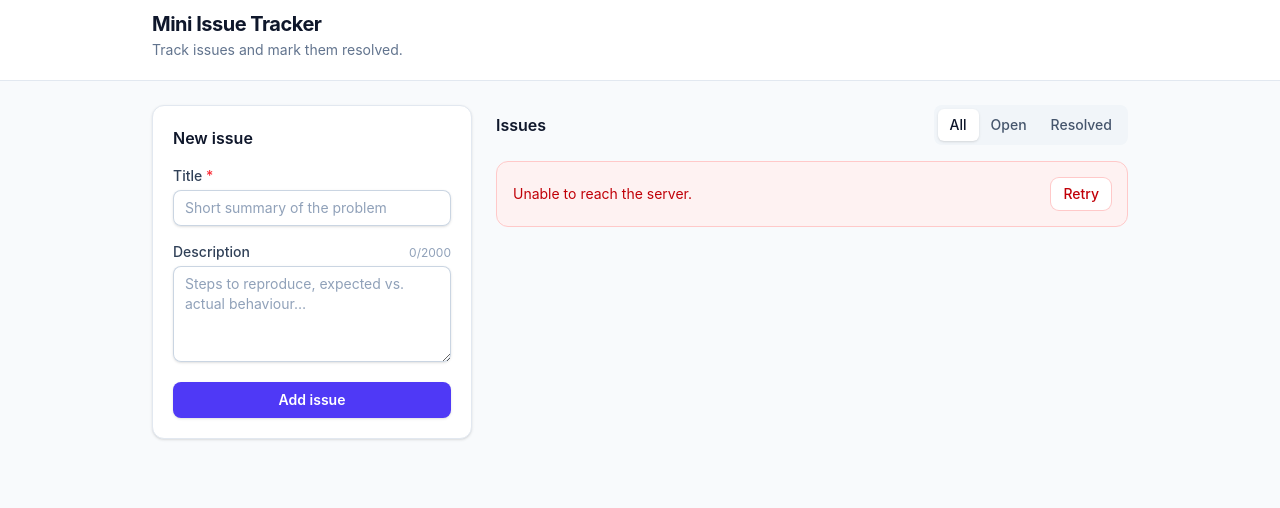
Test case: App › shows a retryable error when loading fails
Expected: the message shows "Unable to reach the server.", [513, 185, 692, 202]
Click the button "Retry": (1081, 194) [1051, 178, 1111, 210]
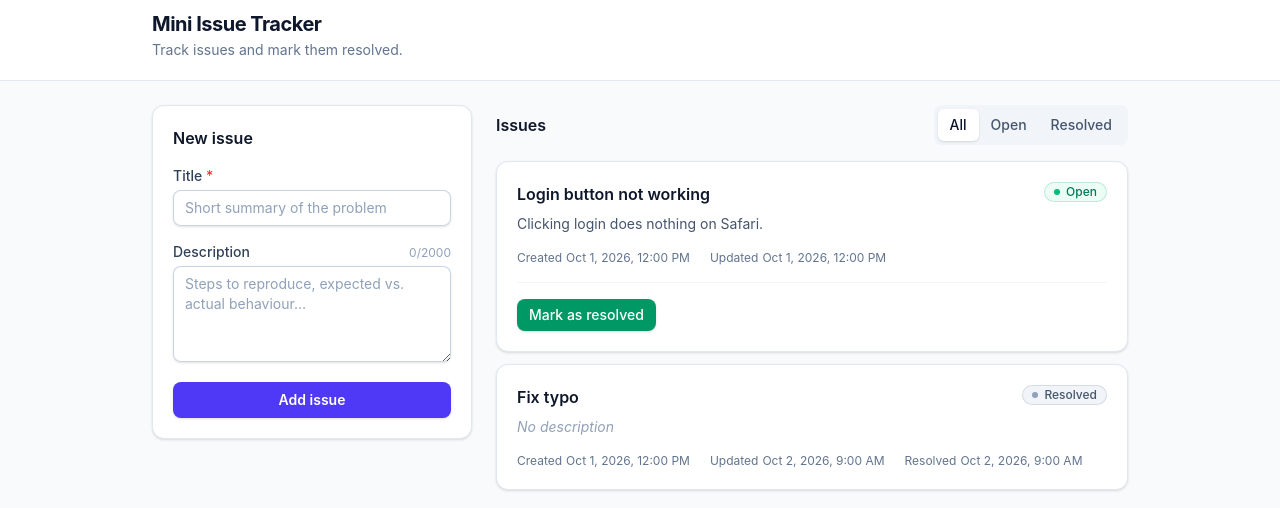
Expected: the element "Login button not working" is shown, [496, 161, 1128, 352]
